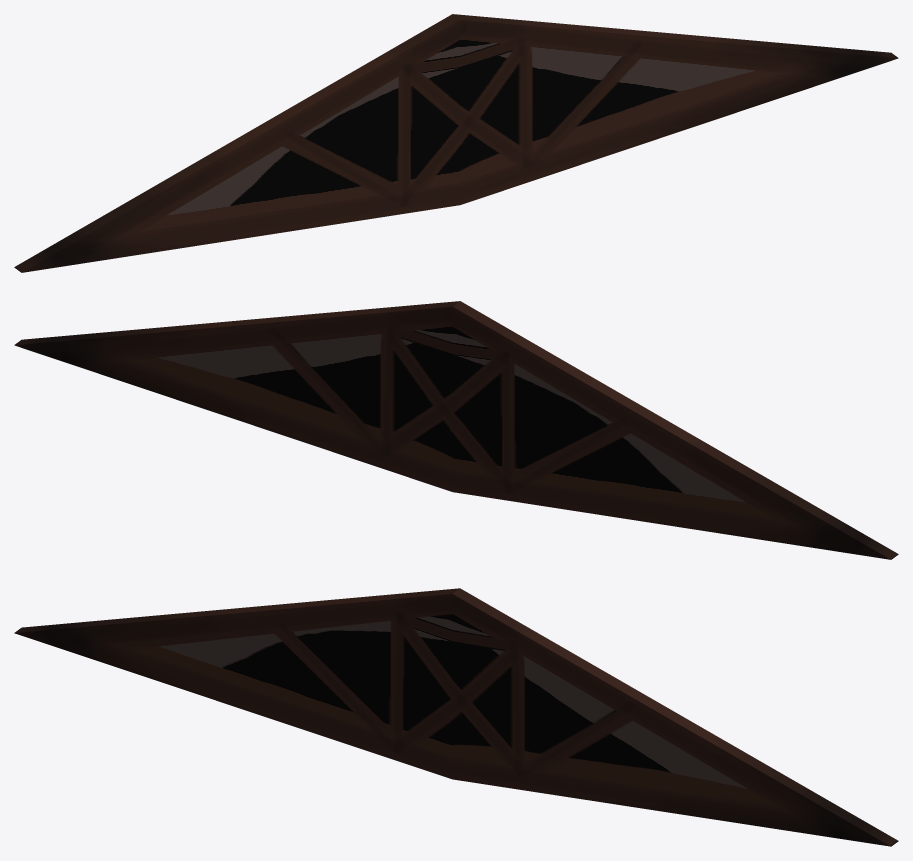
The model's file is ivrir.glb.
3 views of the same model, one above another, from view 1: azimuth 30°, elevation 25°; view 2: azimuth 150°, elevation 25°; view 3: azimuth 330°, elevation 25° (orthographic).
Parts seen in each view (by area): view 1: Plane; view 2: Plane; view 3: Plane.
Boxes of the visible parts, x1,y1,x2,y2 form: Plane: (14,14,898,272); Plane: (14,301,898,559); Plane: (14,588,898,846).
Size of the model in its own units: 3.61 by 0.7287 by 0.0546.
Materials: 1 (1 with a texture image).
